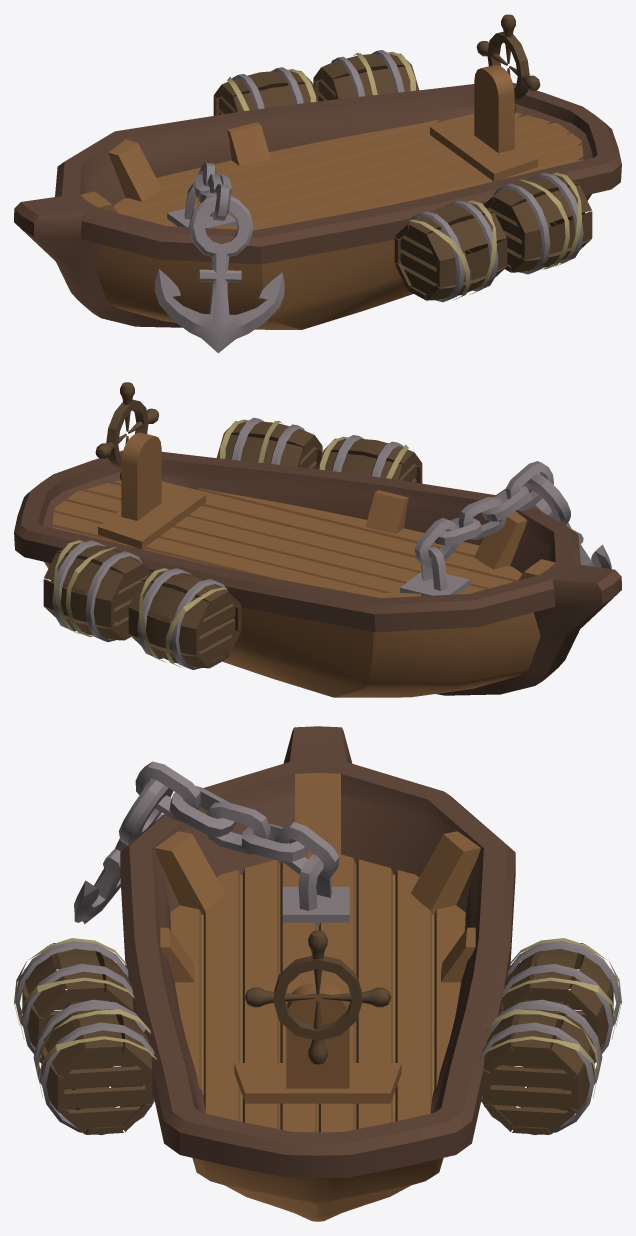
The model's file is W2vMzztgIi.glb.
3 renders of one model, top to bottom at view 1: azimuth 30°, elevation 25°; view 2: azimuth 150°, elevation 25°; view 3: azimuth 270°, elevation 25°, orthographic. The views are drawn at different scales.
Visible parts, largest first — view 1: Ship_Small; view 2: Ship_Small; view 3: Ship_Small.
Boxes of the visible parts, x1,y1,x2,y2 form: Ship_Small: [14, 14, 621, 353]; Ship_Small: [14, 382, 621, 697]; Ship_Small: [14, 726, 621, 1221].
Bounding box in the file's own units: 5.15 × 1.99 × 3.6.
Materials: 1 (1 with a texture image).
